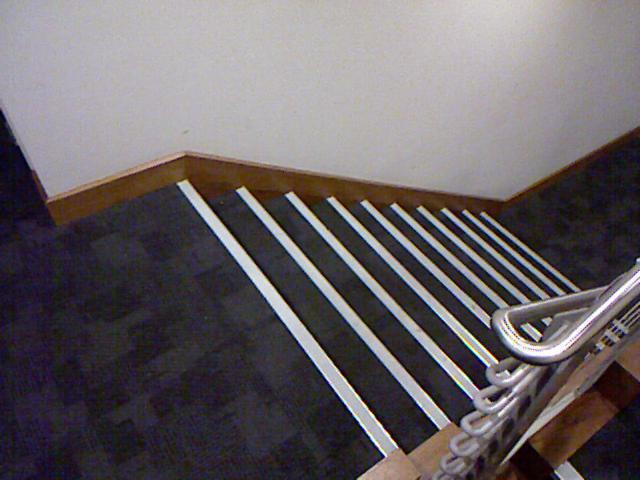Escaleras: (190, 164, 612, 479), (399, 268, 639, 479)
